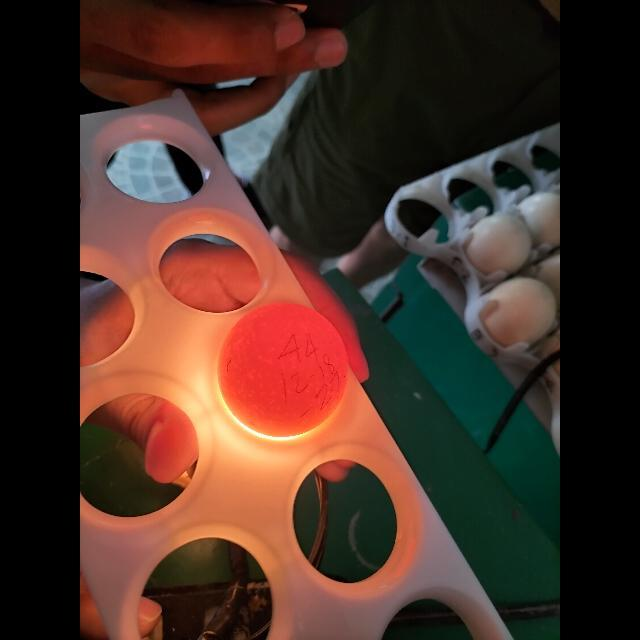Infertile: (220, 292, 344, 436)
